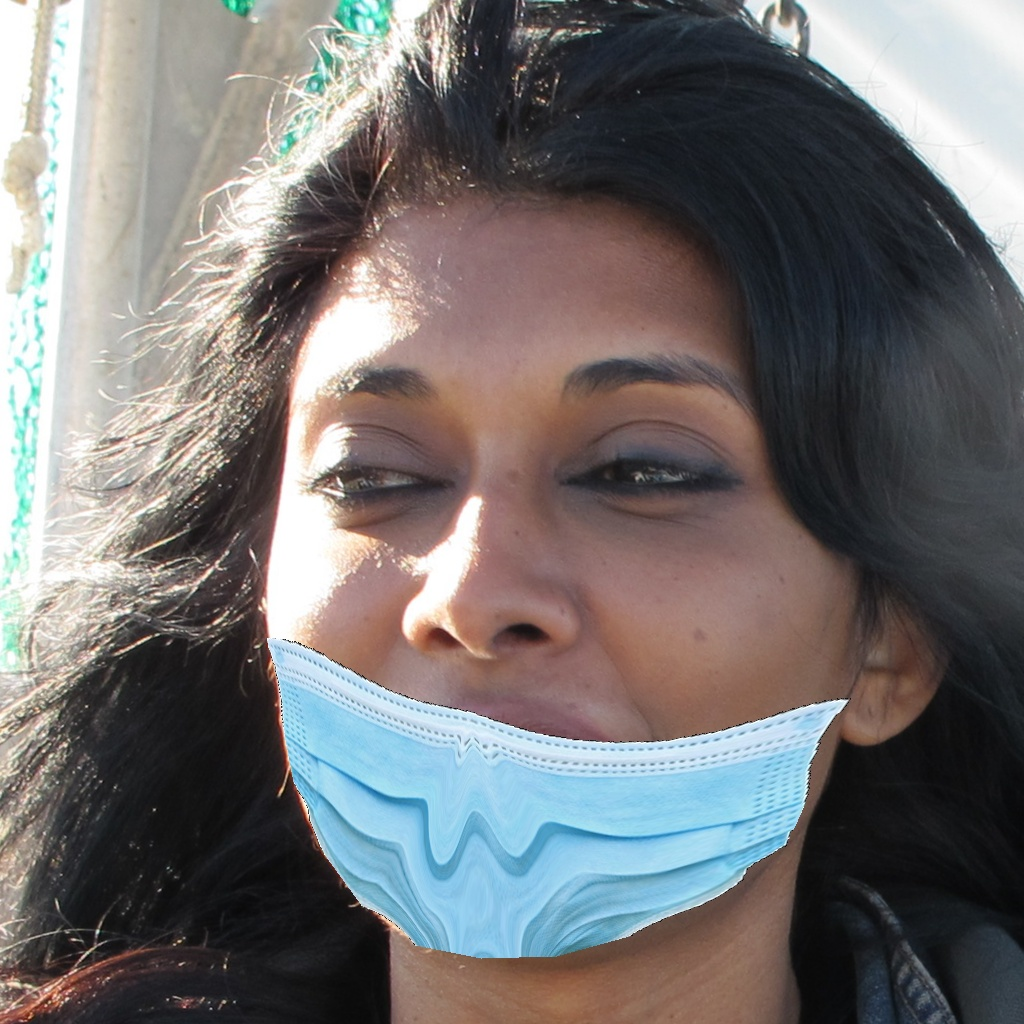mascarilla_mal_puesta: (232, 333, 869, 1003)
